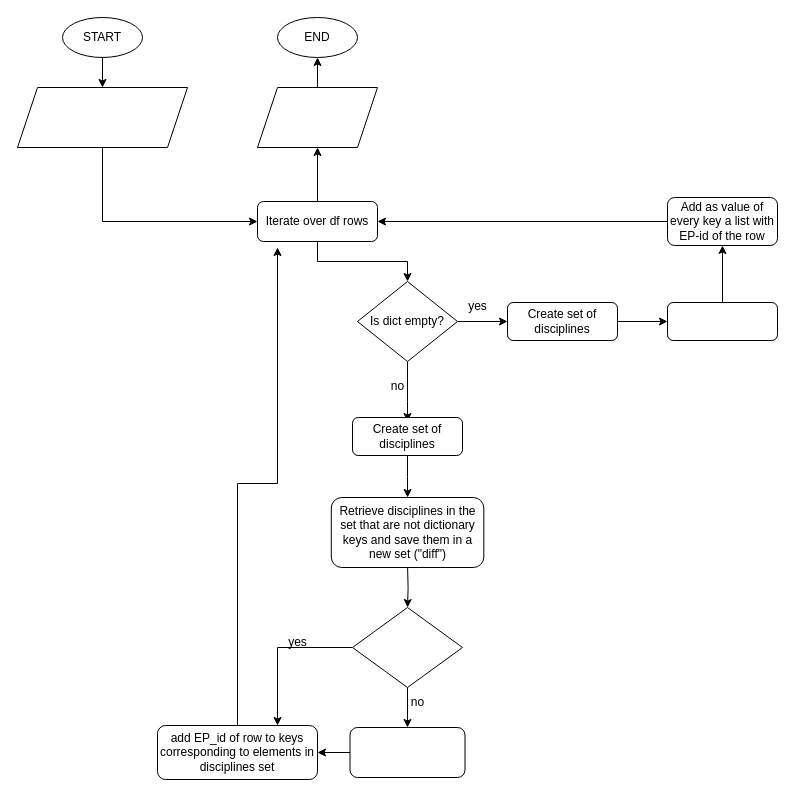
Image size: 795x797. Some labels were removed from this diagram. The shapes that lost their labels are listed below. From the top down, each one's centre as x and y in pixels, then its label:
At point 102,117: "input: dictionary (empty) + ERIH-PLUS df".
At point 317,117: "output: dictionary".
At point 722,321: "Add to dictionary all disciplines as keys".
At point 407,647: "is diff set empty?".
At point 407,752: "Create new dictionary keys out of diff set disciplines".
